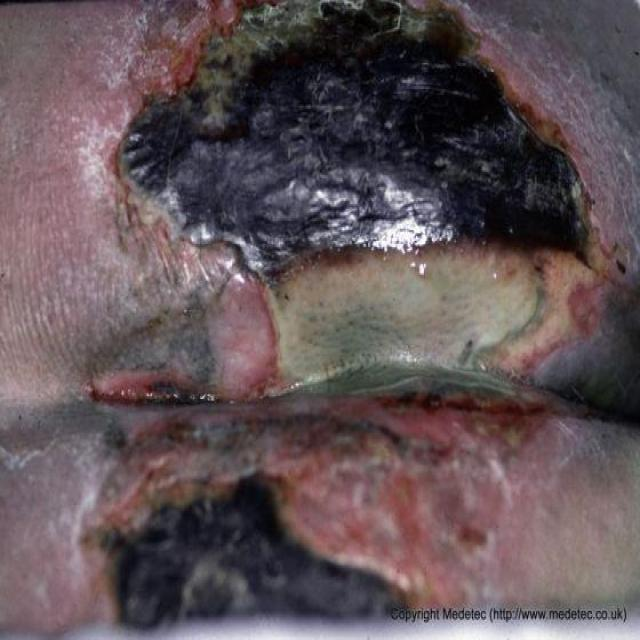Unstageable: (88, 3, 602, 628)
